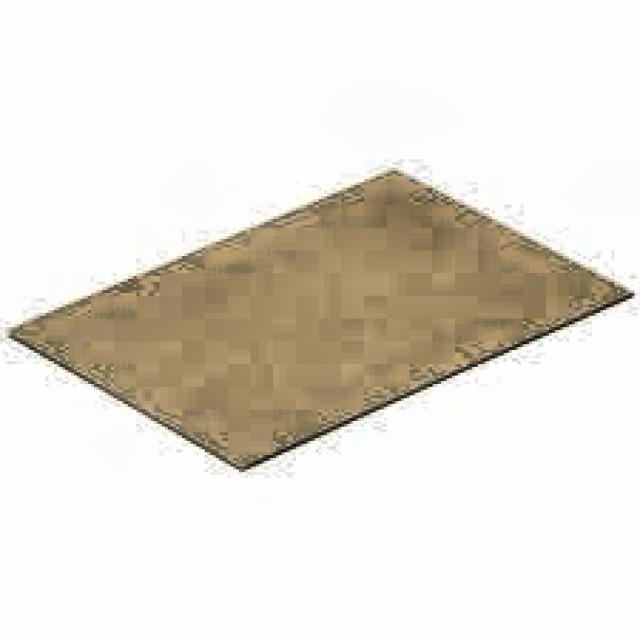cardboard: (6, 162, 632, 469)
